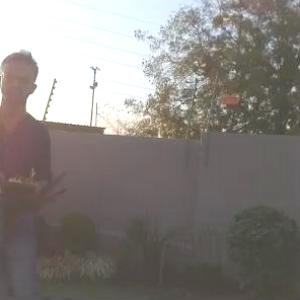follow: (0, 49, 79, 299)
